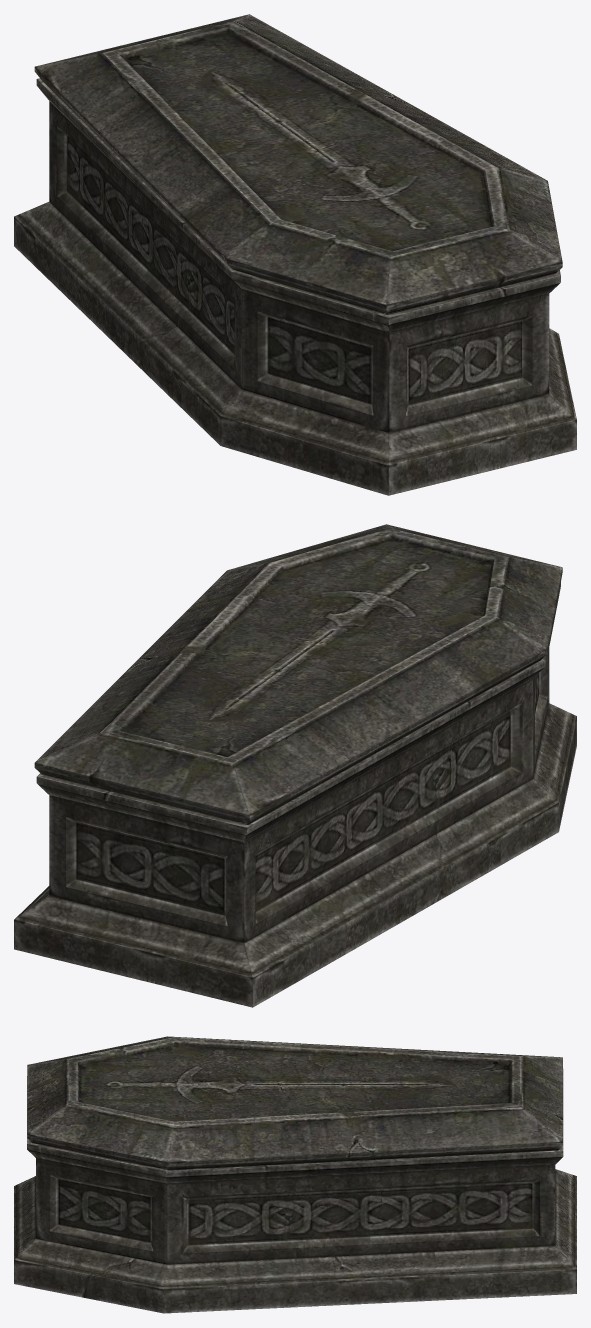
Rendered from eso_gu10_StoneCoffin1-transformed.glb.
The picture shows the model from 3 angles, top to bottom: view 1: azimuth 30°, elevation 25°; view 2: azimuth 150°, elevation 25°; view 3: azimuth 270°, elevation 25°; orthographic projection. The views are drawn at different scales.
Parts seen in each view (by area): view 1: default; view 2: default; view 3: default.
Part boxes in pixels (box(x1,y1,x2,y2)): default: box(14, 14, 576, 495); default: box(14, 524, 576, 1007); default: box(14, 1036, 576, 1313).
Bounding box in the file's own units: 1.58 × 0.9137 × 2.82.
Materials: 2 (2 with a texture image).
